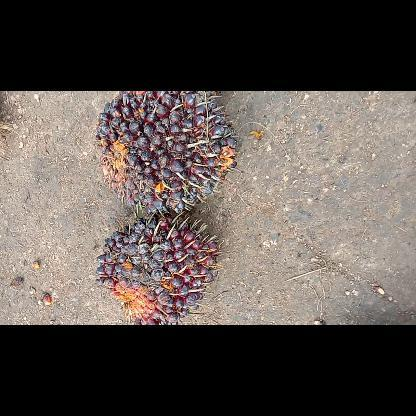Kurang masak: (91, 90, 241, 218), (94, 216, 219, 324)
